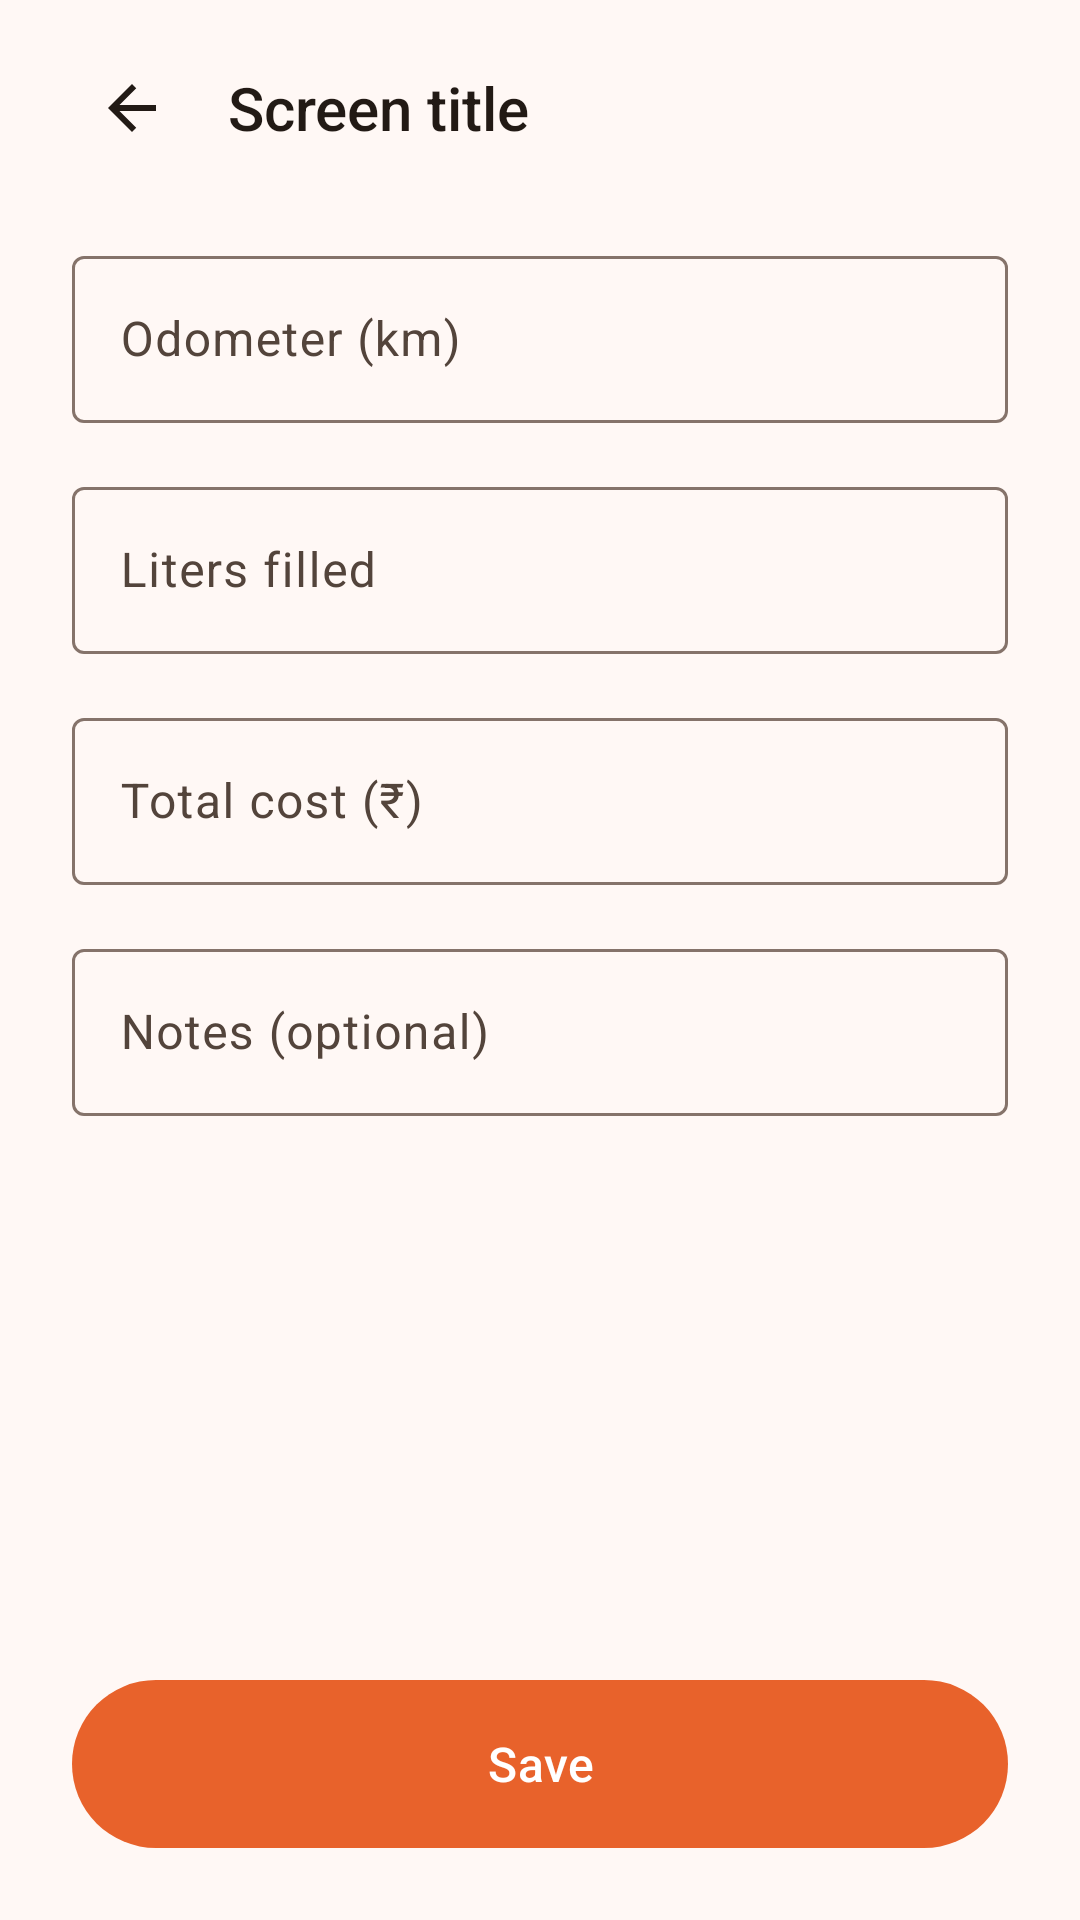

Named icons in this screenshot (1080 x 1920) and their bounding boxes, (x1, y1, x2, y2):
Back: (108, 84, 156, 132)
